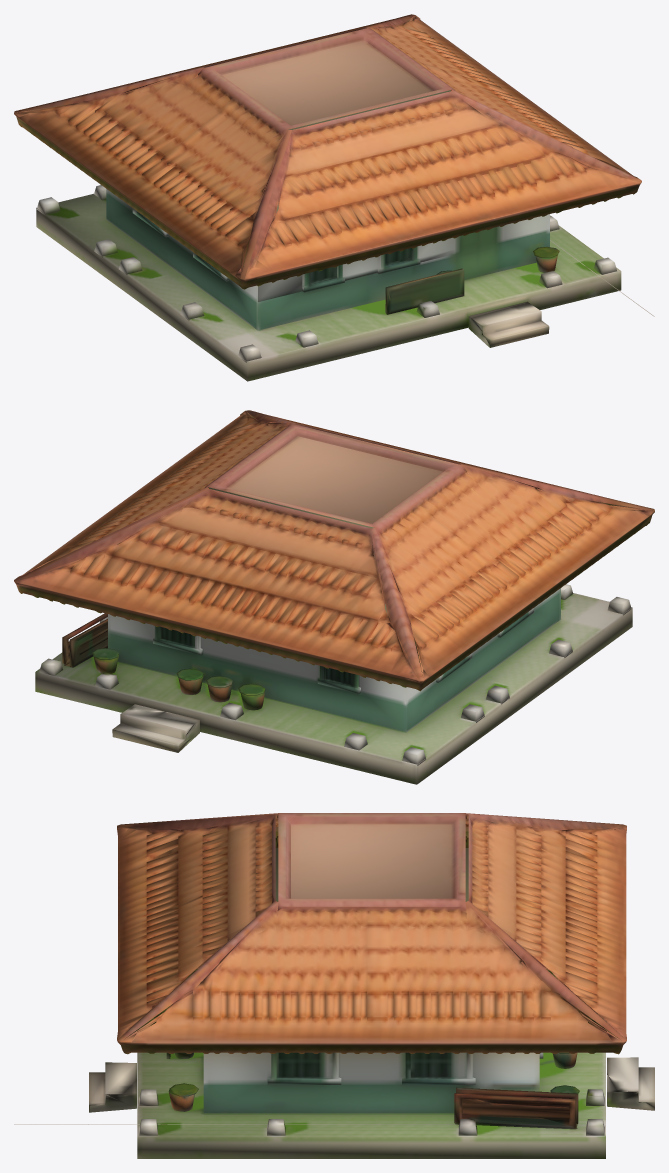
The model's file is Casa.fbx.
3 renders of one model, top to bottom at view 1: azimuth 30°, elevation 25°; view 2: azimuth 150°, elevation 25°; view 3: azimuth 270°, elevation 25°, orthographic. The views are drawn at different scales.
Parts seen in each view (by area): view 1: mesh_rep_0_ori_repair_quad; view 2: mesh_rep_0_ori_repair_quad; view 3: mesh_rep_0_ori_repair_quad.
Boxes of the visible parts, x1,y1,x2,y2 form: mesh_rep_0_ori_repair_quad: (14, 14, 654, 381); mesh_rep_0_ori_repair_quad: (14, 410, 654, 784); mesh_rep_0_ori_repair_quad: (14, 813, 654, 1158).
Bounding box in the file's own units: 85.18 × 37.37 × 106.
Materials: 1 (1 with a texture image).
